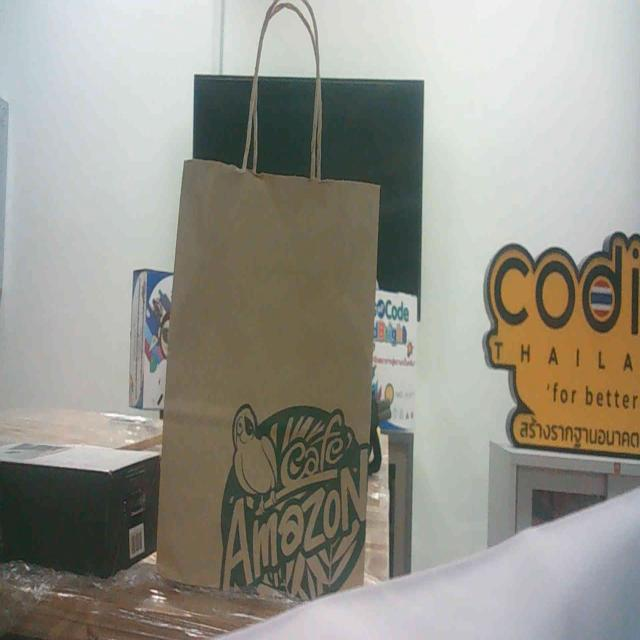bag: (156, 111, 393, 640)
